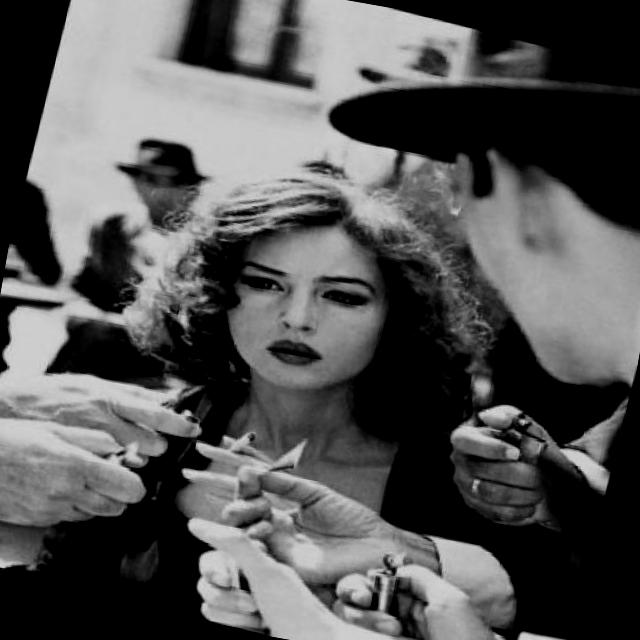smoke: (218, 424, 264, 464)
